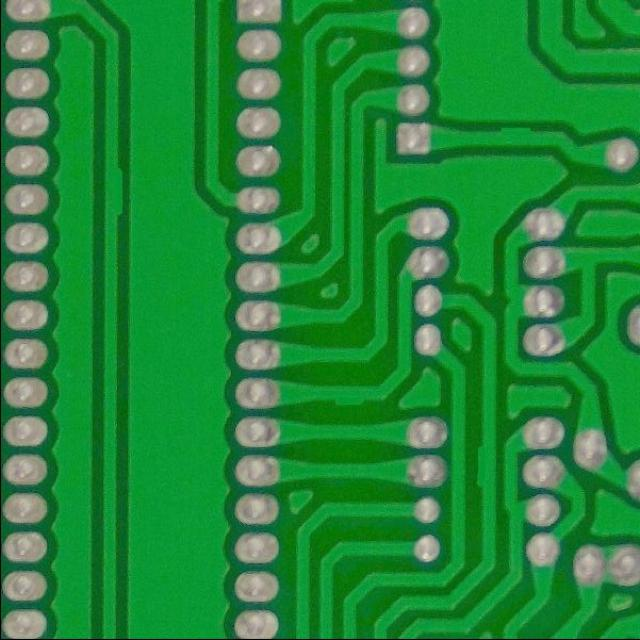Spur: (93, 155, 130, 227), (468, 438, 503, 495), (323, 377, 376, 411), (490, 122, 542, 152)
